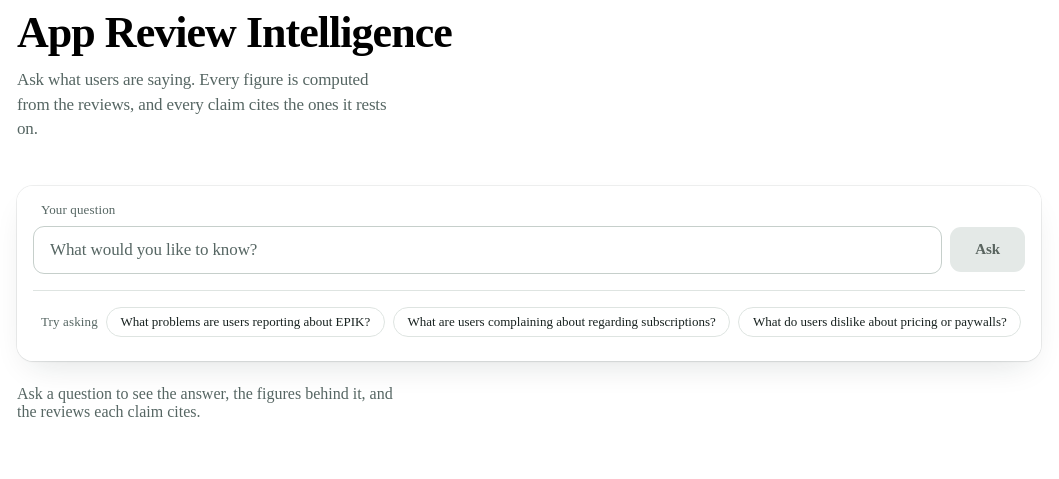
Test case: friendly errors and retry › handles invalid configuration:
The image size is (1059, 479).
Step 1. Type "  What needs improvement?  " into the field labelled "Your question" → (488, 250), box x1=33 y1=226 x2=942 y2=274
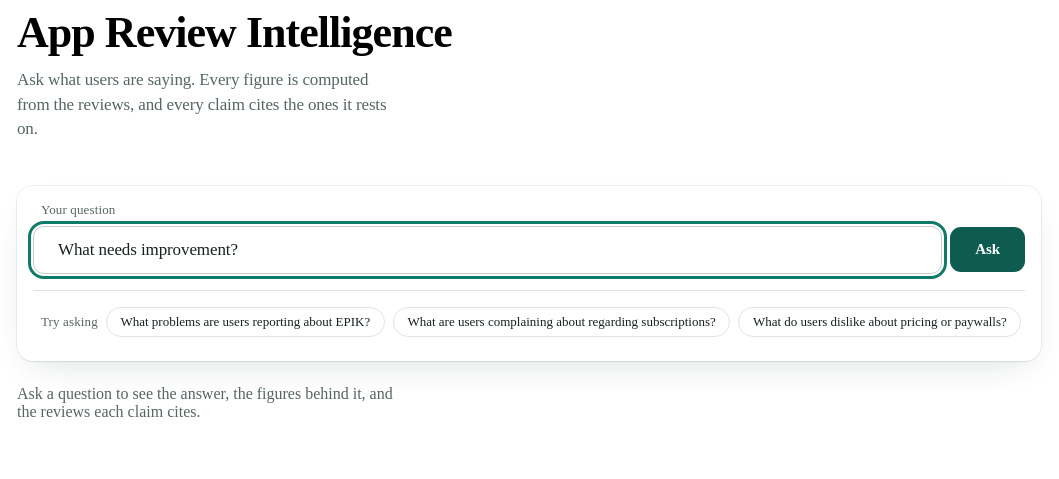
Step 2. Click the button "Ask" → (988, 250), box x1=950 y1=227 x2=1025 y2=272
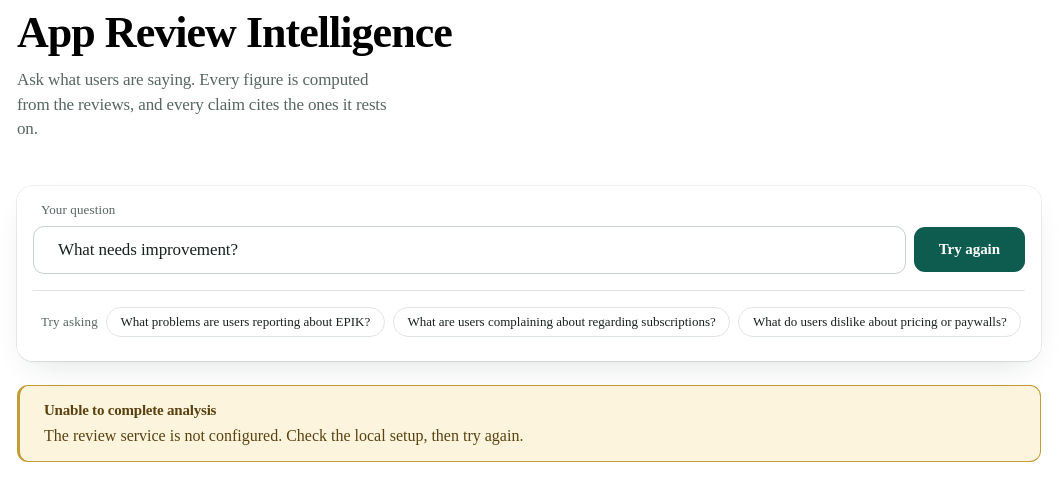
Check: the button "Try again" is enabled, box x1=914 y1=227 x2=1025 y2=272
Check: the message shows "The review service is not configured. Check the local setup, then try again.", box x1=44 y1=427 x2=523 y2=444
